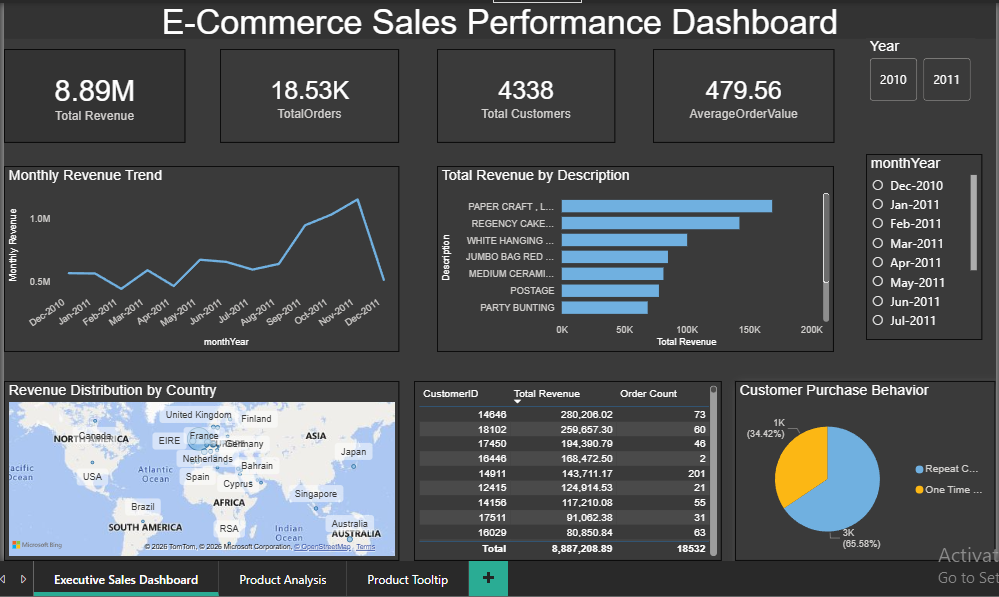

This screenshot's page, from the dashboard's own definition file:
{"tool":"powerbi","page":{"name":"Executive Sales Dashboard","canvas":[1280,720],"ordinal":0},"visuals":[{"type":"textbox","title":"E-Commerce Sales Performance Dashboard","box":[0,0,1279.8,45.6],"z":0},{"type":"card","fields":{"Values":["online_retail_actualclean.Total Revenue"]},"box":[0,59.3,234.2,121.4],"z":1000},{"type":"card","fields":{"Values":["online_retail_actualclean.TotalOrders"]},"box":[279,59.3,231.3,121.4],"z":2000},{"type":"card","fields":{"Values":["online_retail_actualclean.Total Customers"]},"box":[558.1,59.3,229.9,121.4],"z":3000},{"type":"card","fields":{"Values":["online_retail_actualclean.AverageOrderValue"]},"box":[837.1,59.3,234.2,121.4],"z":4000},{"type":"lineChart","title":"Monthly Revenue Trend","fields":{"Y":["online_retail_actualclean.Monthly Revenue"],"Category":["online_retail_actualclean.monthYear"]},"box":[0,210.3,509.7,240],"z":5000},{"type":"barChart","fields":{"Category":["online_retail_actualclean.Description"],"Y":["online_retail_actualclean.Total Revenue"]},"box":[558.7,210.3,512.3,240],"z":6000},{"type":"map","title":"Revenue Distribution by Country","fields":{"Category":["online_retail_actualclean.Country"],"Size":["online_retail_actualclean.Total Revenue"]},"box":[0,487.8,509.9,232.2],"z":7000},{"type":"tableEx","fields":{"Values":["online_retail_actualclean.CustomerID","online_retail_actualclean.Total Revenue","online_retail_actualclean.TotalOrders"]},"box":[529,487.8,396.7,232.2],"z":8000},{"type":"pieChart","title":"Customer Purchase Behavior","fields":{"Y":["online_retail_actualclean.Repeat Customers","online_retail_actualclean.One Time Customers"]},"box":[943.3,487.8,336.5,232.2],"z":10000},{"type":"advancedSlicerVisual","fields":{"Values":["online_retail_actualclean.Year"]},"box":[1112.3,45.6,141.1,86.7],"z":11000},{"type":"listSlicer","fields":{"Values":["online_retail_actualclean.monthYear"]},"box":[1112.3,195.4,149.9,239.5],"z":12000}]}

Visuals, with their boxes on the page's 1280x720 design canvas (x1, y1, x2, y2). These are canvas units, not pixel positions in the 999x597 screenshot, which may show the page scaled, cropped or inside an application window:
"E-Commerce Sales Performance Dashboard" textbox: <box>0,0,1280,46</box>
card - online_retail_actualclean.Total Revenue: <box>0,59,234,181</box>
card - online_retail_actualclean.TotalOrders: <box>279,59,510,181</box>
card - online_retail_actualclean.Total Customers: <box>558,59,788,181</box>
card - online_retail_actualclean.AverageOrderValue: <box>837,59,1071,181</box>
"Monthly Revenue Trend" lineChart: <box>0,210,510,450</box>
barChart - online_retail_actualclean.Description x online_retail_actualclean.Total Revenue: <box>559,210,1071,450</box>
"Revenue Distribution by Country" map: <box>0,488,510,720</box>
tableEx - online_retail_actualclean.CustomerID x online_retail_actualclean.Total Revenue: <box>529,488,926,720</box>
"Customer Purchase Behavior" pieChart: <box>943,488,1280,720</box>
advancedSlicerVisual - online_retail_actualclean.Year: <box>1112,46,1253,132</box>
listSlicer - online_retail_actualclean.monthYear: <box>1112,195,1262,435</box>
